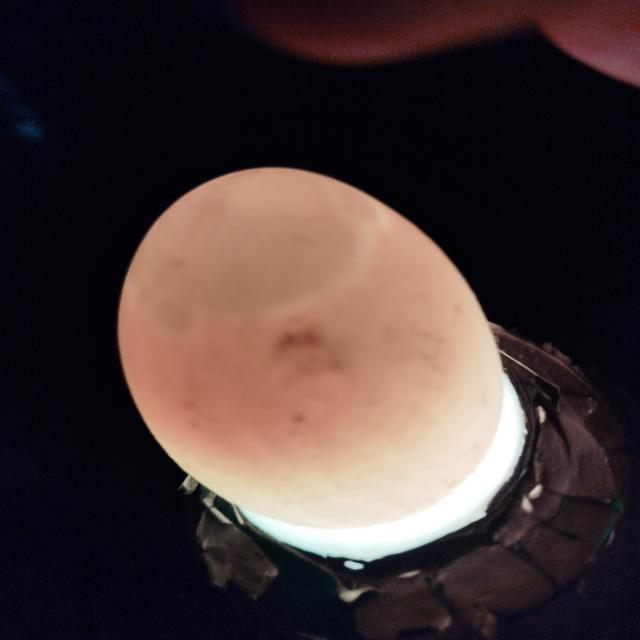Camara de Ar: (129, 168, 391, 360)
